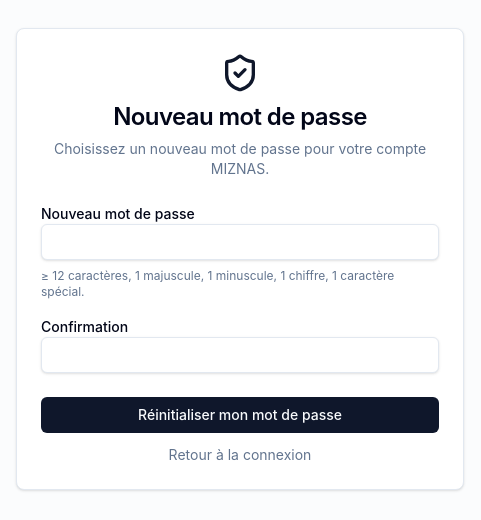
Test: ResetPasswordPage › policy : mdp < 12 caractères → erreur zod + pas d'appel API
Type "Short!1" into the password field with test id "rp-nouveau" at (240, 242), box [41,224,439,260]
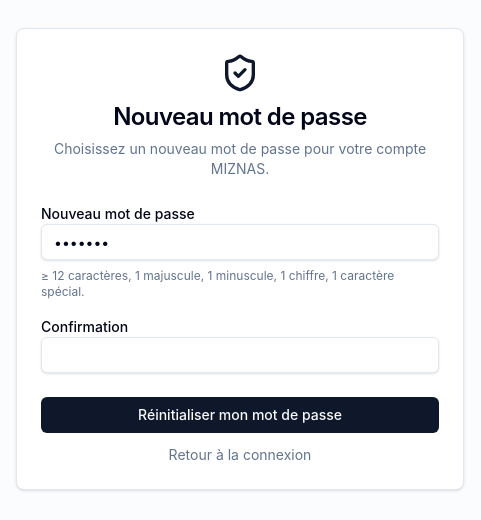
Type "Short!1" into the password field with test id "rp-confirmation" at (240, 355), box [41,337,439,373]
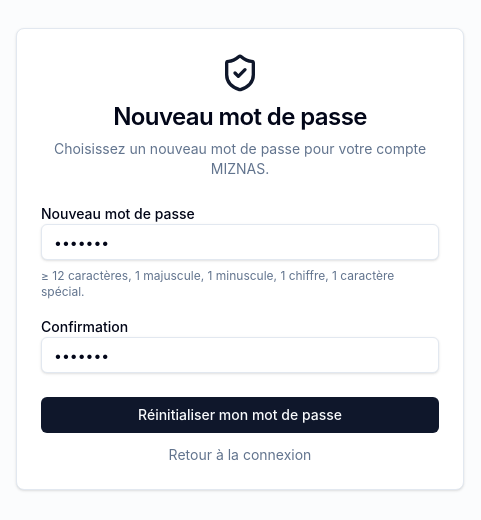
Click the button with test id "rp-submit" at (240, 415), box [41,397,439,433]
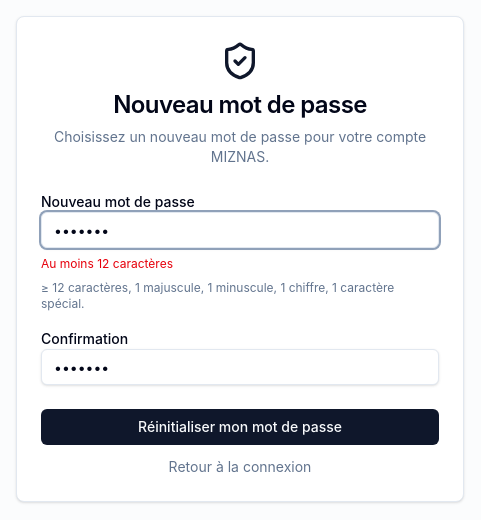
Result: the text "Au moins 12 caractères" is shown at [41,256,173,271]
